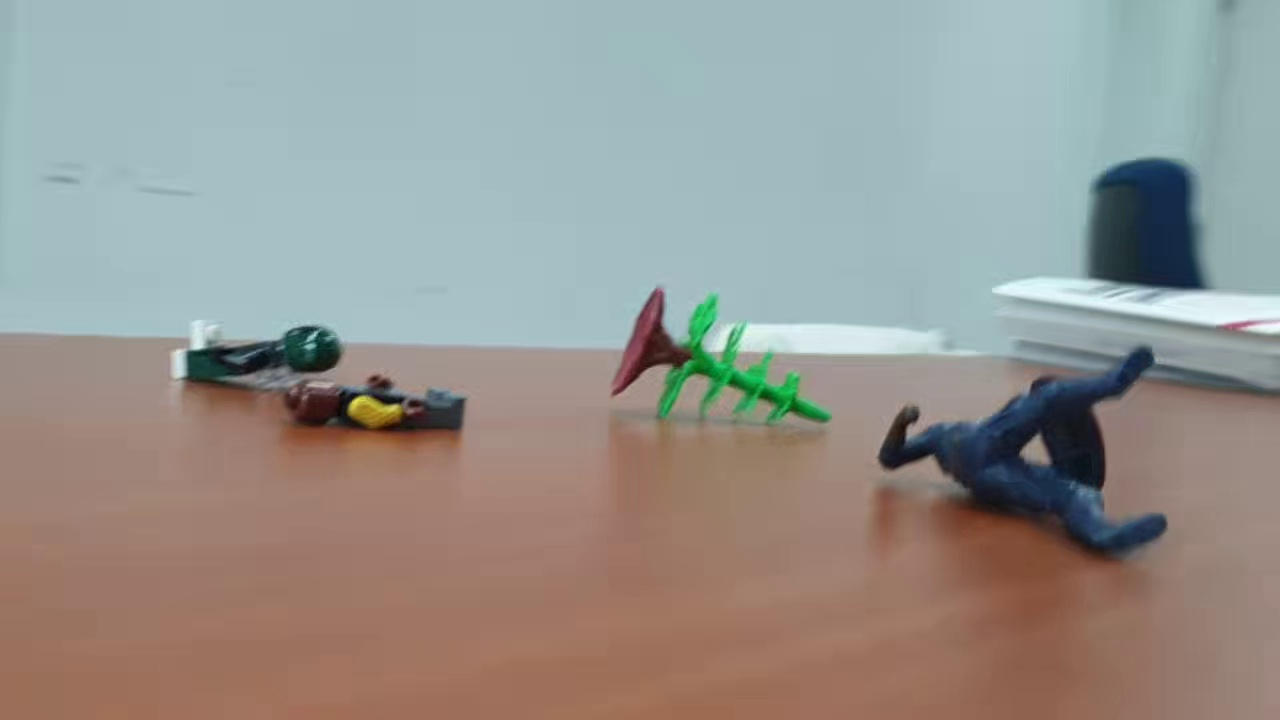people: (878, 337, 1171, 562), (165, 318, 349, 388), (282, 371, 469, 439)
tree: (609, 285, 833, 431)
